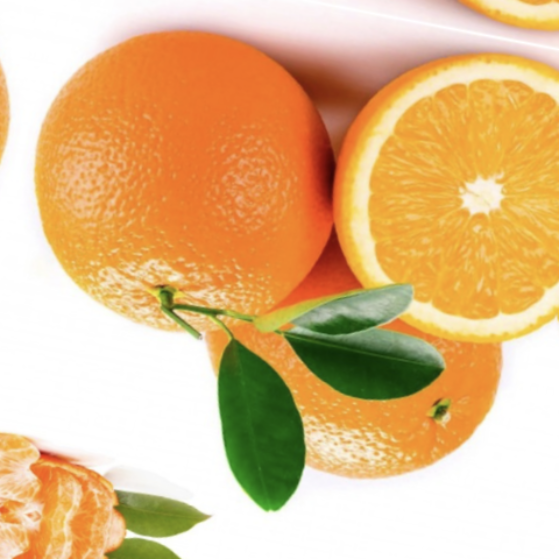orange: (0, 0, 388, 394), (151, 170, 538, 511)
